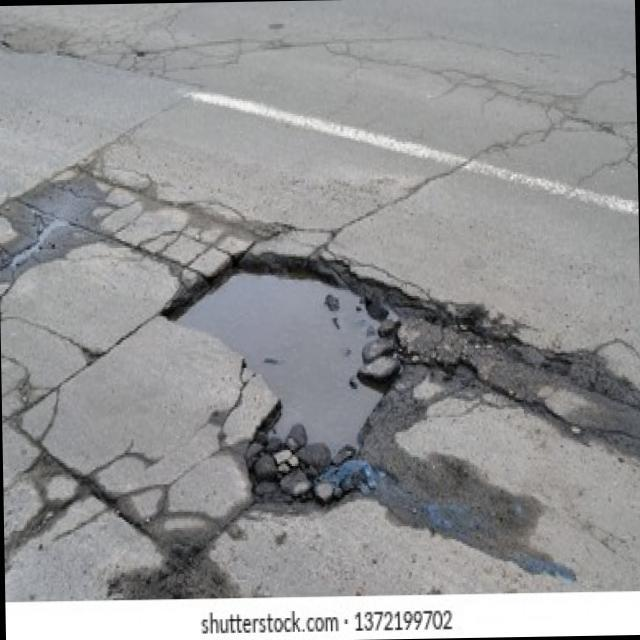Pothole: (162, 249, 424, 512)
